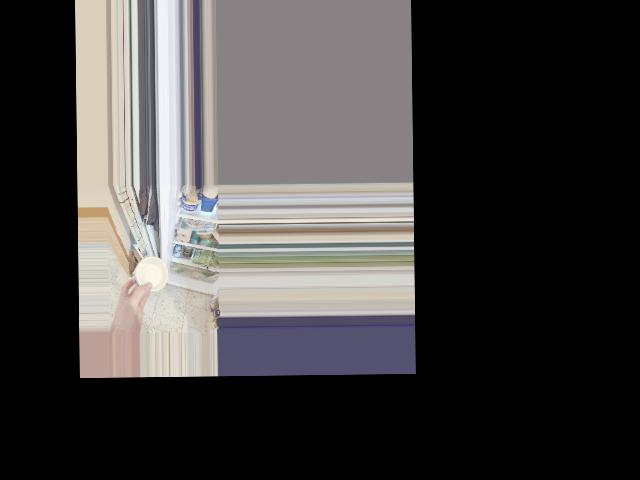cotage: (130, 256, 165, 294)
